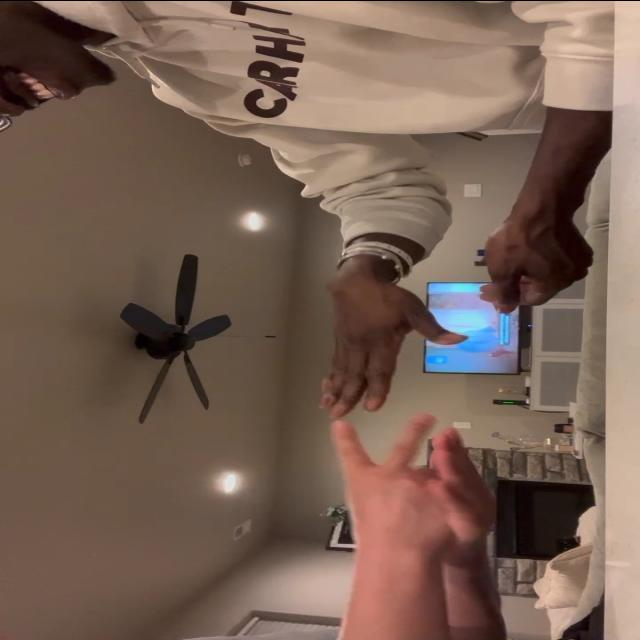Paper: (314, 268, 470, 418)
Scissors: (326, 416, 454, 558)
